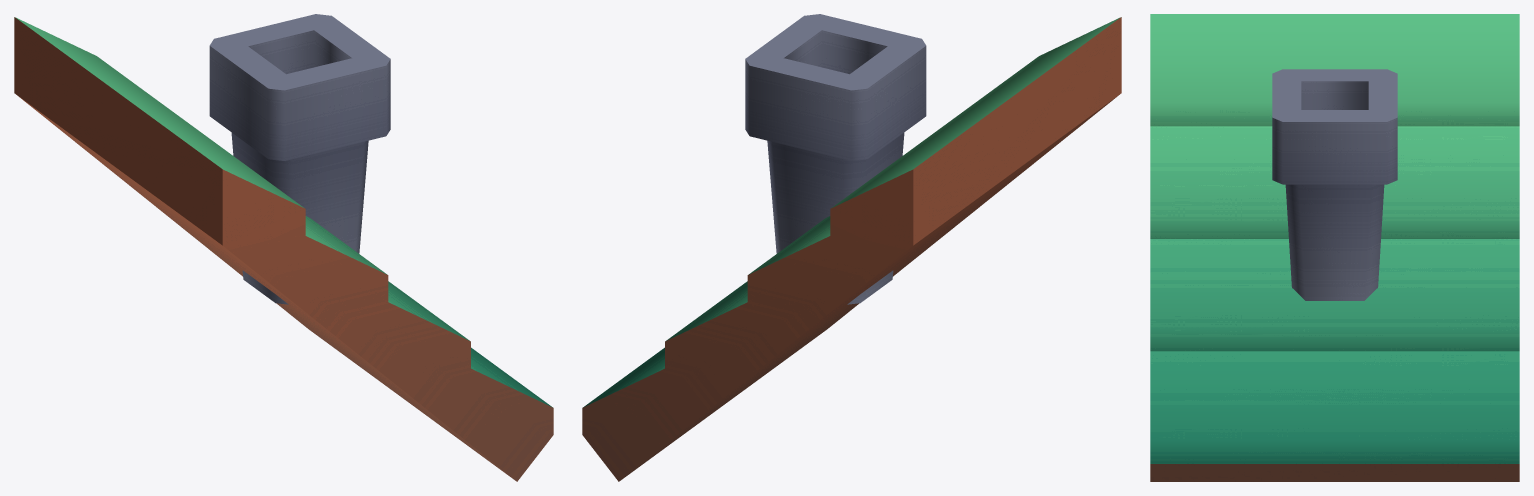
File: cabin-roof-chimney.glb
3 views of the same model, side by side, from view 1: azimuth 30°, elevation 25°; view 2: azimuth 150°, elevation 25°; view 3: azimuth 270°, elevation 25° (orthographic). The views are drawn at different scales.
Visible parts, largest first — view 1: cabin-roof-chimney; view 2: cabin-roof-chimney; view 3: cabin-roof-chimney.
Boxes of the visible parts, box(x1,y1,x2,y2) form: cabin-roof-chimney: box(14, 14, 553, 481); cabin-roof-chimney: box(582, 14, 1121, 481); cabin-roof-chimney: box(1150, 14, 1519, 481).
Bounding box in the file's own units: 3.85 × 4.27 × 4.2.
1 material, 1 textured.
